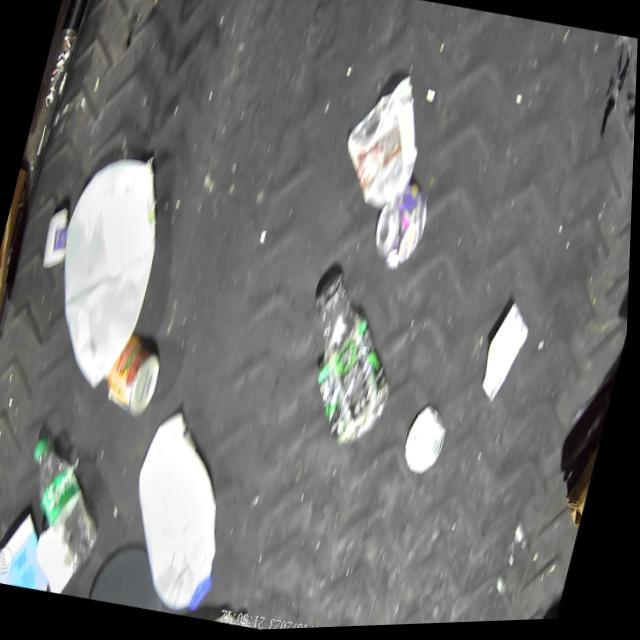can: (367, 179, 438, 274), (99, 328, 170, 422)
milk_jug: (27, 139, 182, 399), (109, 400, 255, 621)
plastic_bottle: (279, 262, 421, 456), (8, 427, 125, 581)
